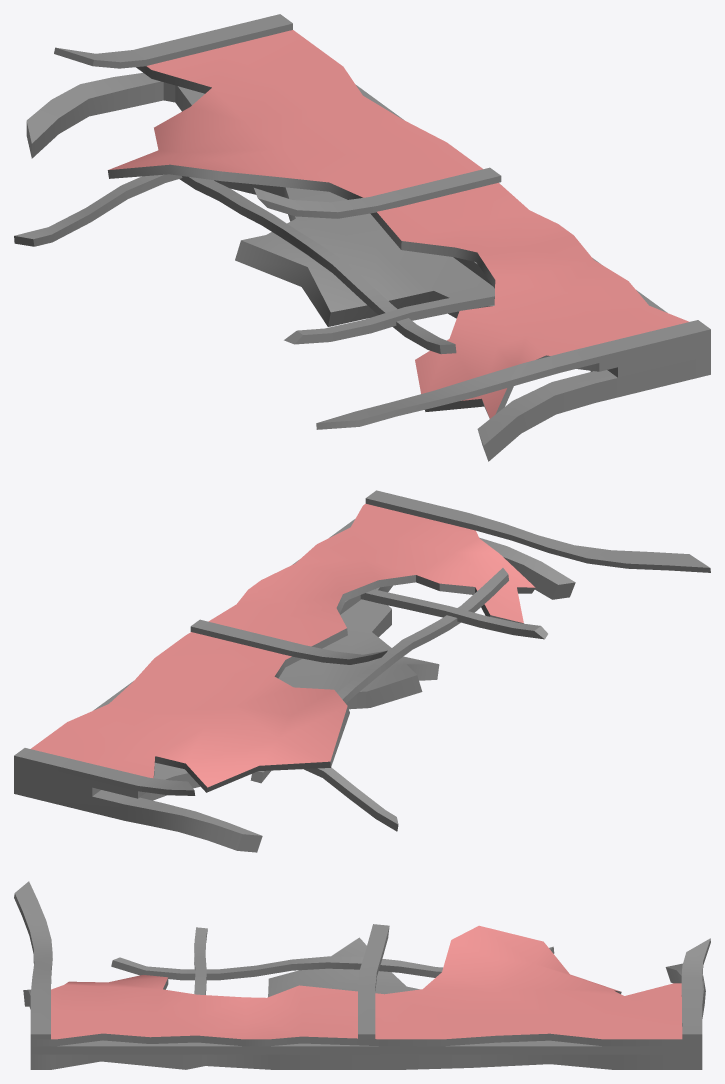
File: SM_BrokenShipConstrctor_Full_04.gltf
3 renders of one model, top to bottom at view 1: azimuth 30°, elevation 25°; view 2: azimuth 150°, elevation 25°; view 3: azimuth 270°, elevation 25°, orthographic. The views are drawn at different scales.
Parts seen in each view (by area): view 1: SM_BrokenShipConstrctor_Full_04; view 2: SM_BrokenShipConstrctor_Full_04; view 3: SM_BrokenShipConstrctor_Full_04.
Boxes of the visible parts, x1,y1,x2,y2 form: SM_BrokenShipConstrctor_Full_04: [14, 14, 710, 461]; SM_BrokenShipConstrctor_Full_04: [14, 490, 710, 852]; SM_BrokenShipConstrctor_Full_04: [14, 881, 710, 1069].
Size of the model in its own units: 10.62 by 2.65 by 20.76.
